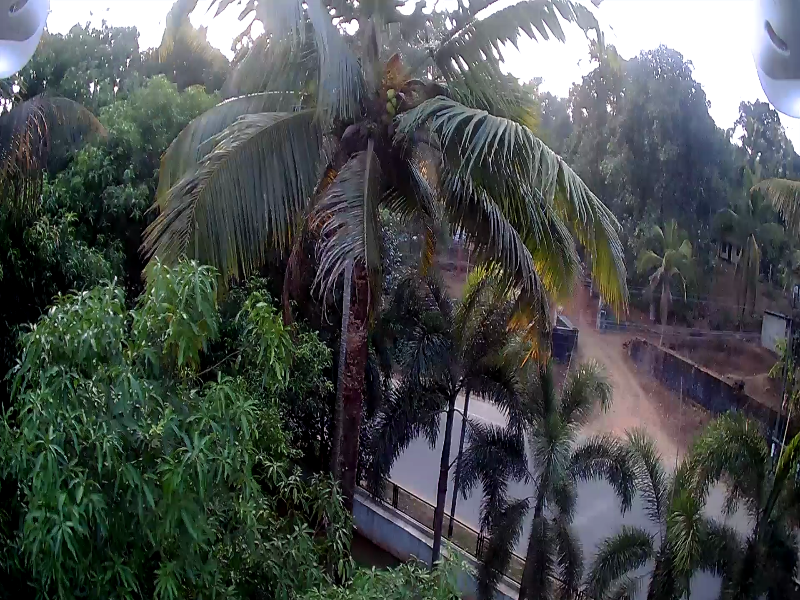coconut: (375, 105, 393, 126), (384, 82, 396, 97), (381, 100, 395, 112)
